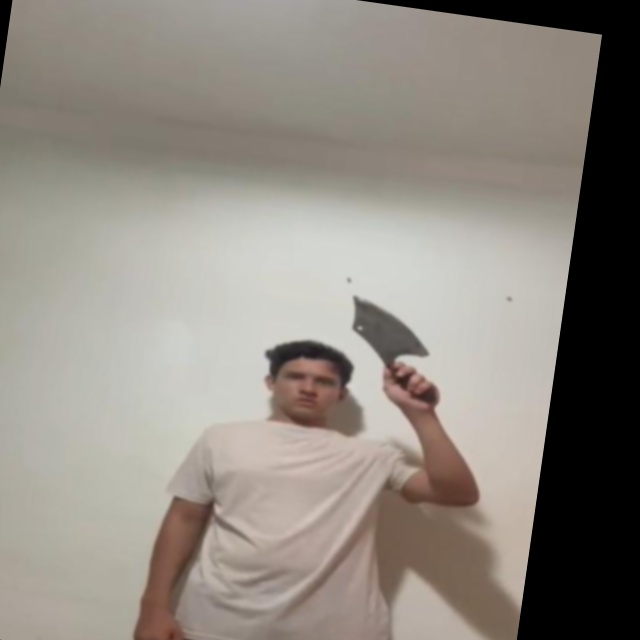Sharp-Object: (345, 298, 430, 359)
